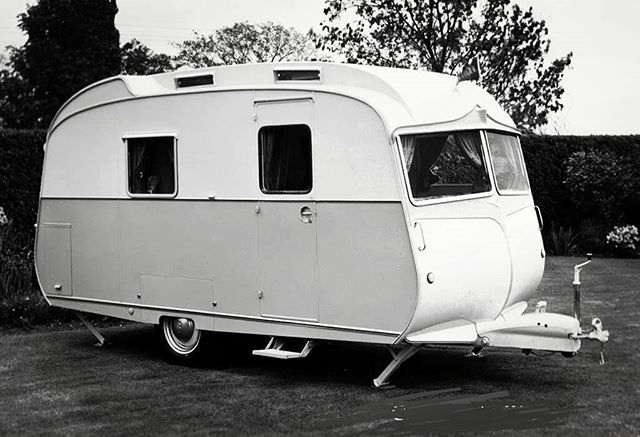trailer home: (38, 66, 609, 391)
